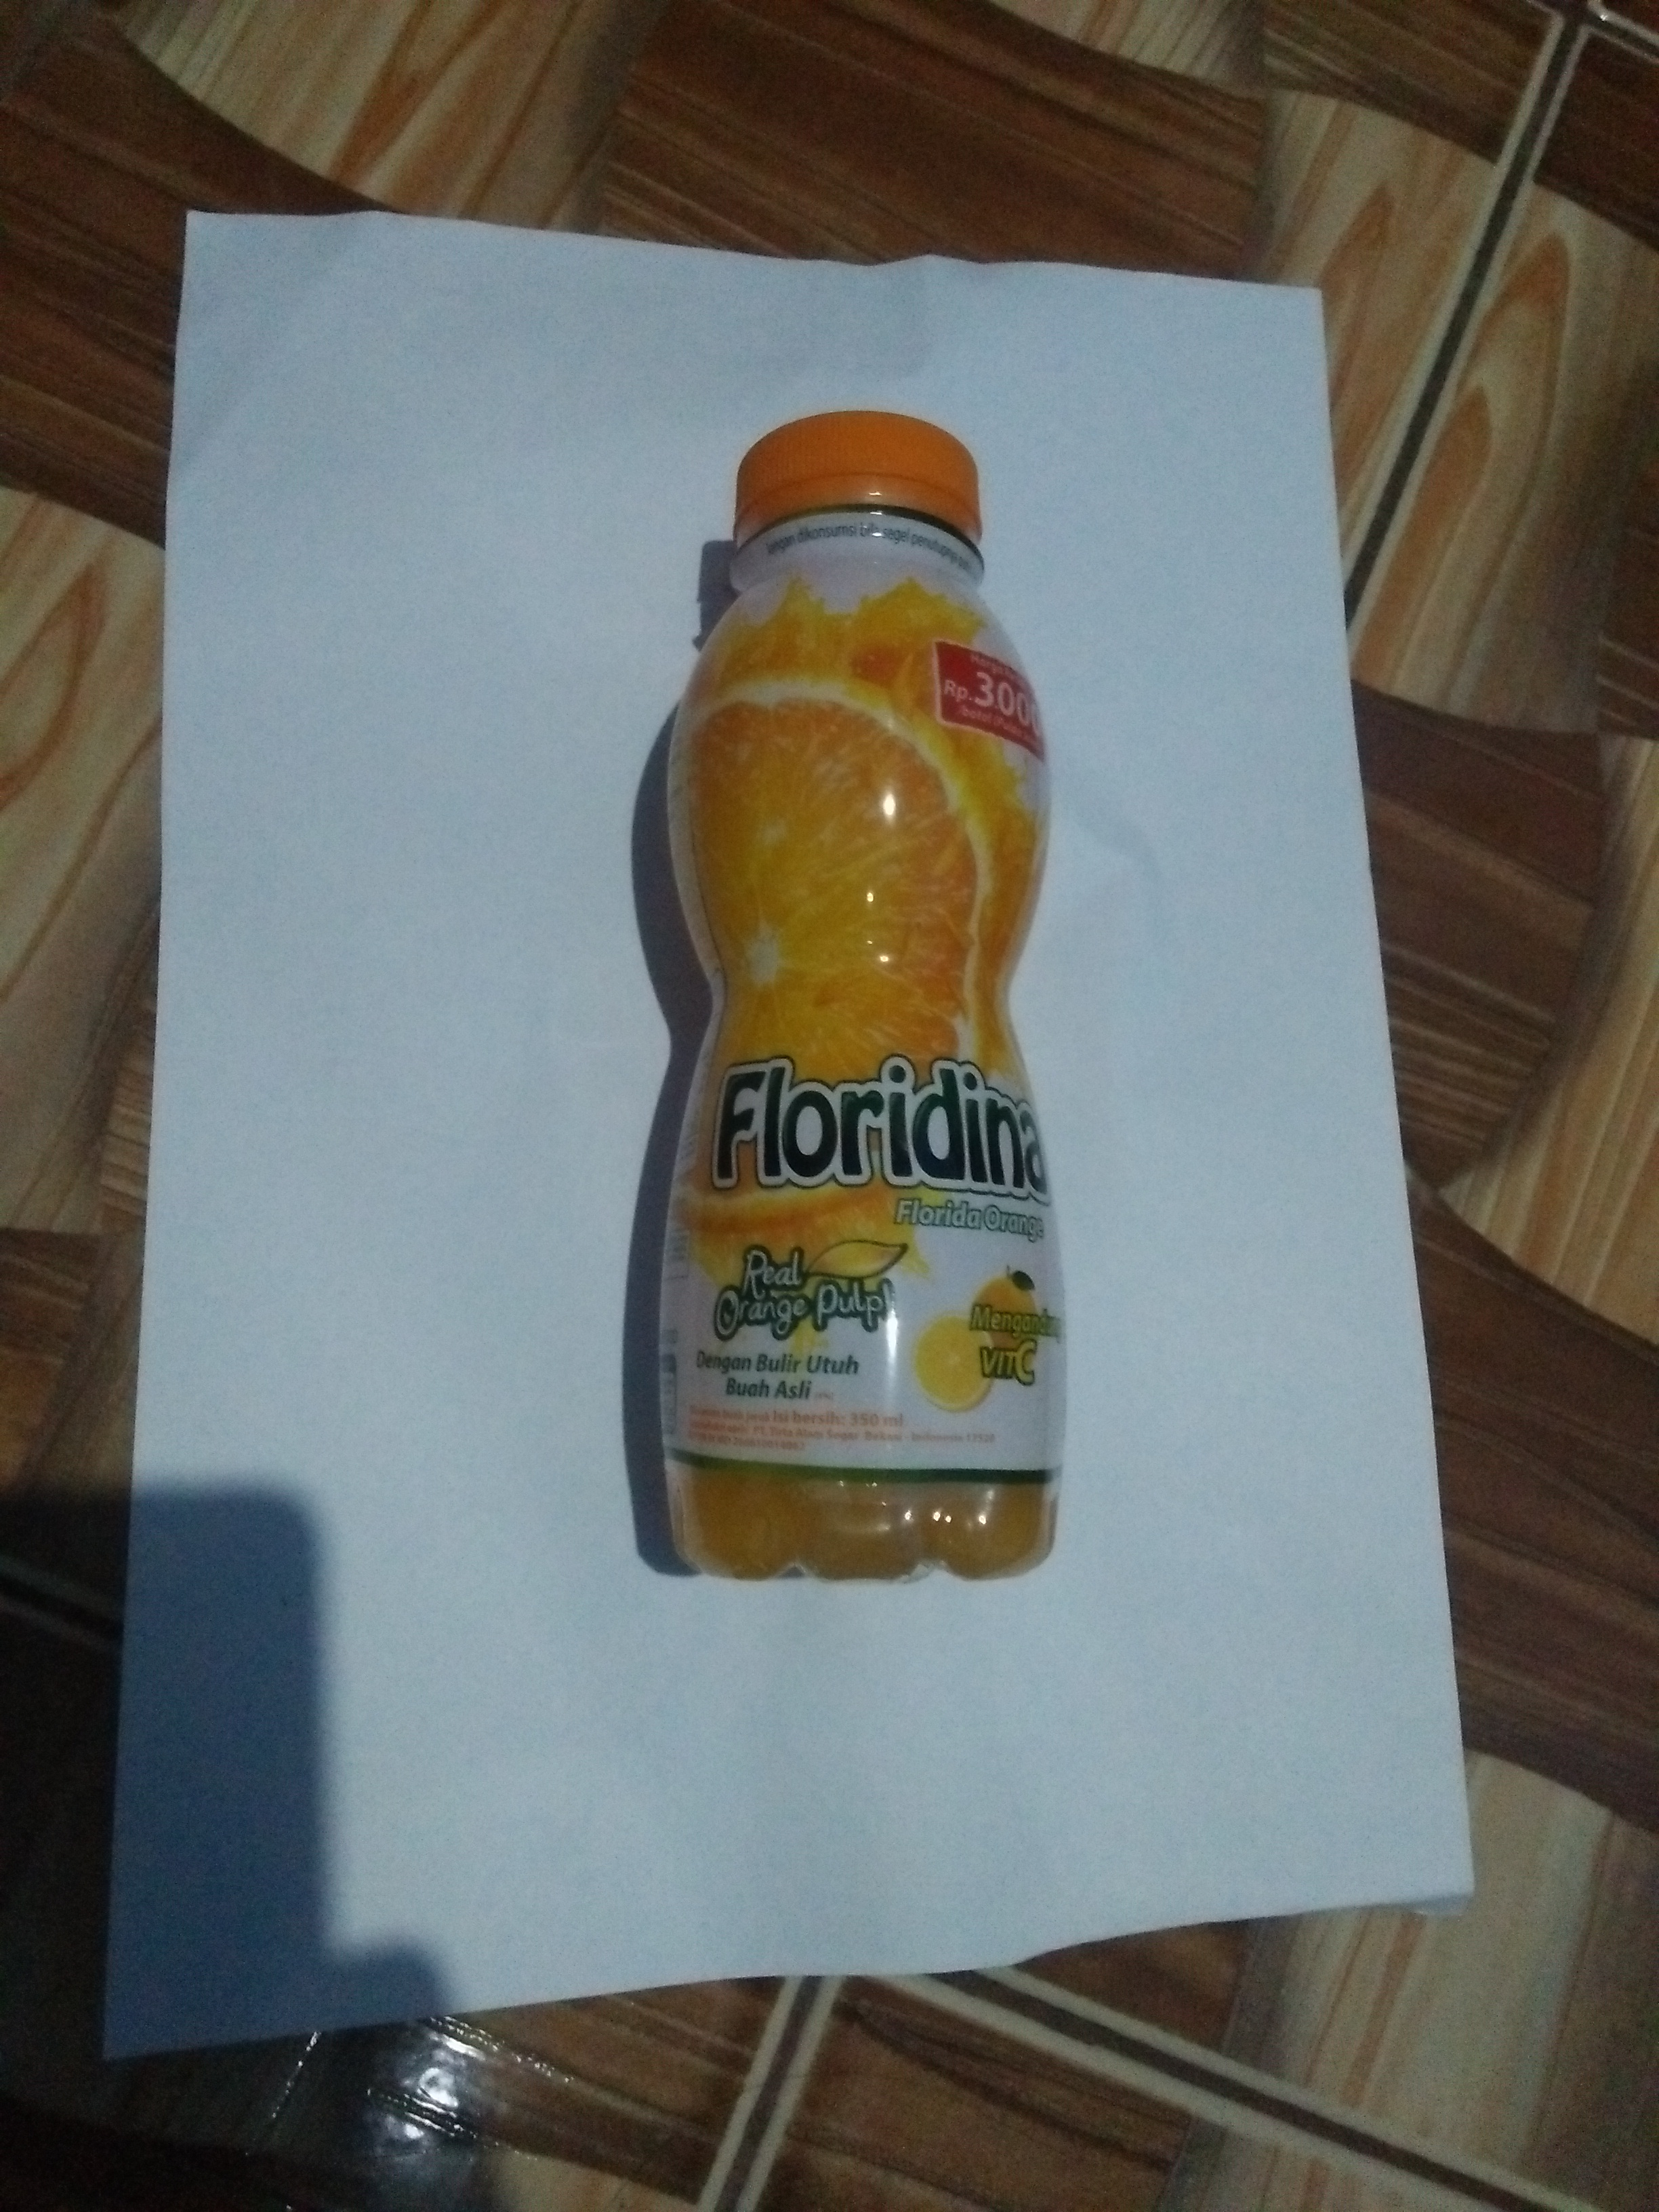Floridina: (627, 395, 1089, 1609)
